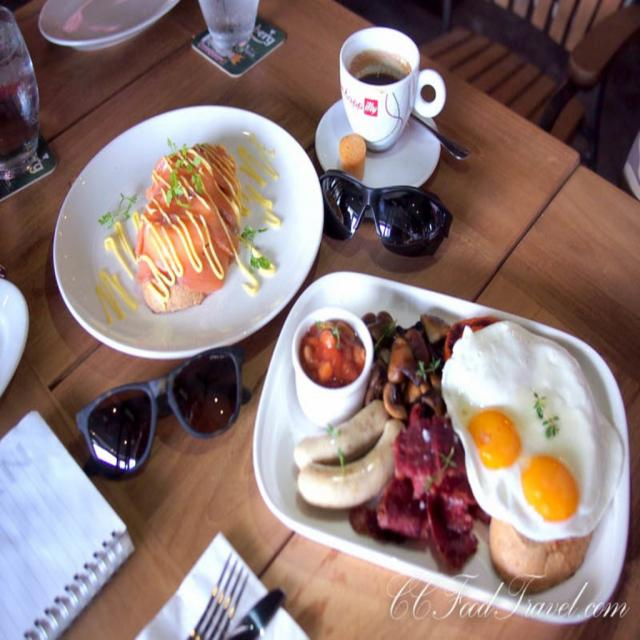Tea: (352, 51, 406, 91)
